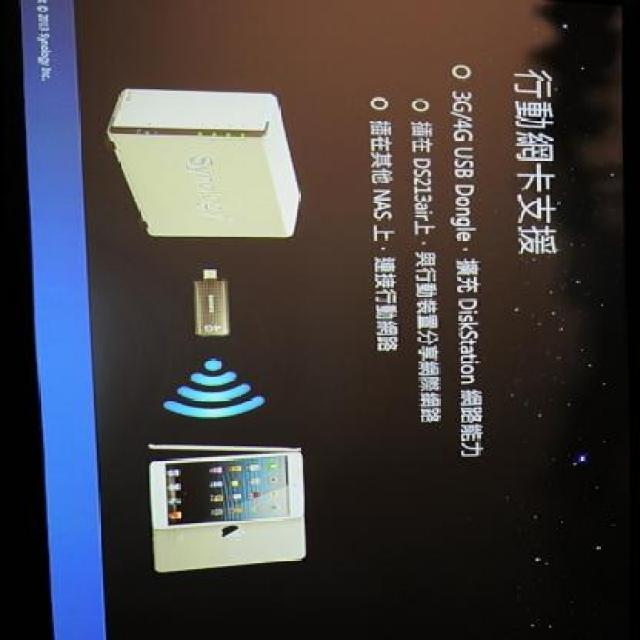phone: (149, 451, 306, 531), (152, 515, 306, 575)
